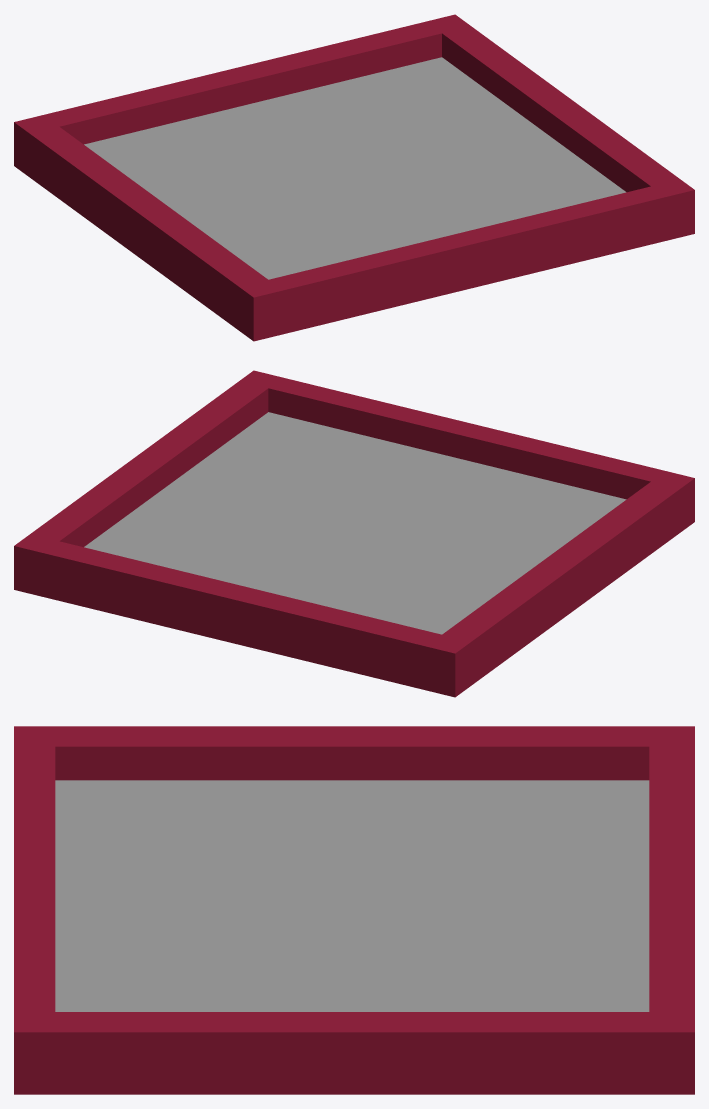
The model's file is roof3x3.fbx.
3 renders of one model, top to bottom at view 1: azimuth 30°, elevation 25°; view 2: azimuth 150°, elevation 25°; view 3: azimuth 270°, elevation 25°, orthographic. The views are drawn at different scales.
Parts seen in each view (by area): view 1: roof; view 2: roof; view 3: roof.
Part boxes in pixels (x1,y1,x2,y2): roof: (14, 14, 694, 341); roof: (14, 370, 694, 697); roof: (14, 726, 694, 1094).
Bounding box in the file's own units: 6.8 × 0.6468 × 6.4.
